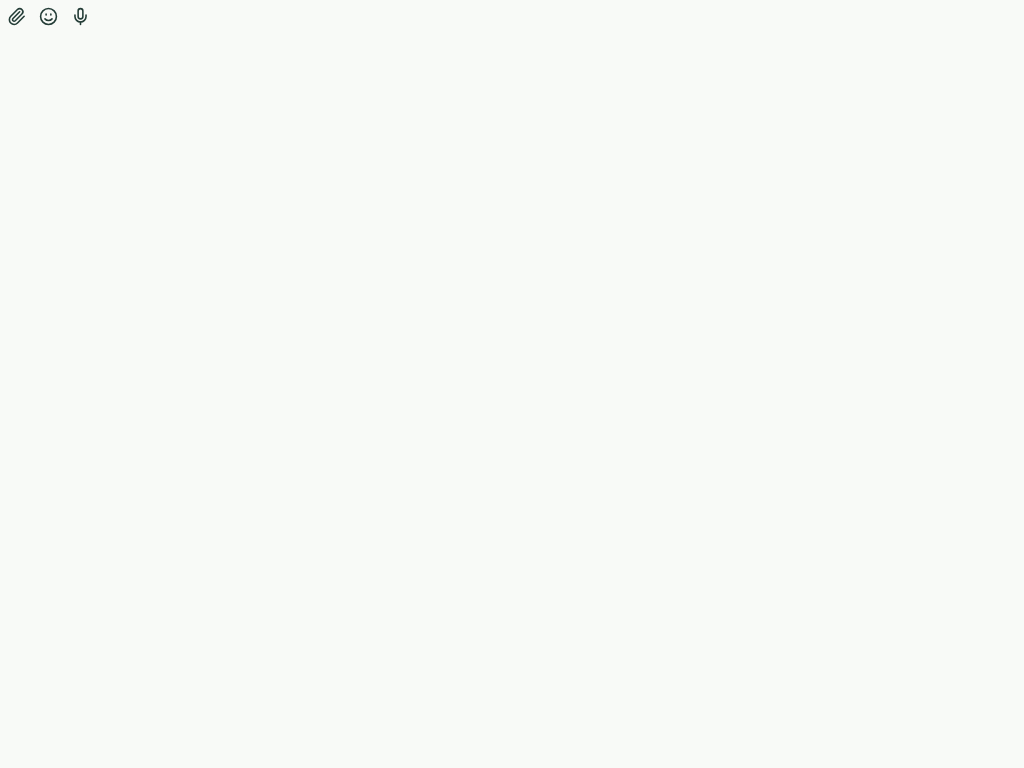
Test: stops a microphone stream that resolves after the recording dialog was closed
Click the button named "Voice message" at (80, 16), box [64,0,96,32]
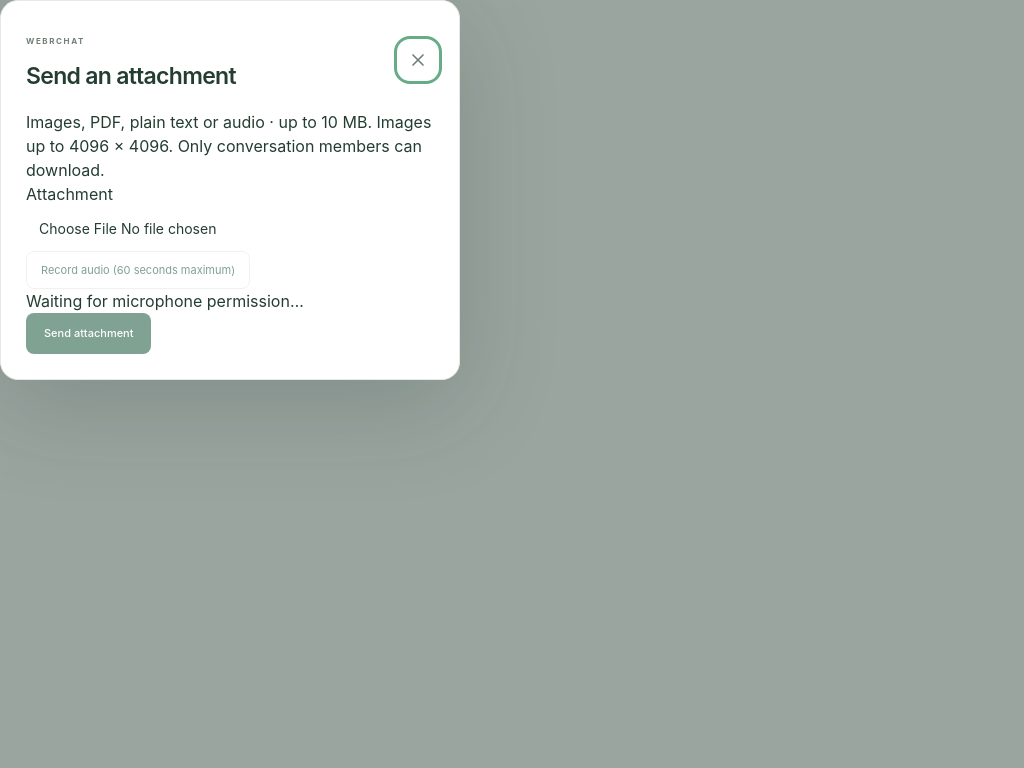
Now the message shows "Waiting for microphone", box [26,291,304,311]
Click the button named "Close dialog" at (418, 60), box [402,44,434,76]
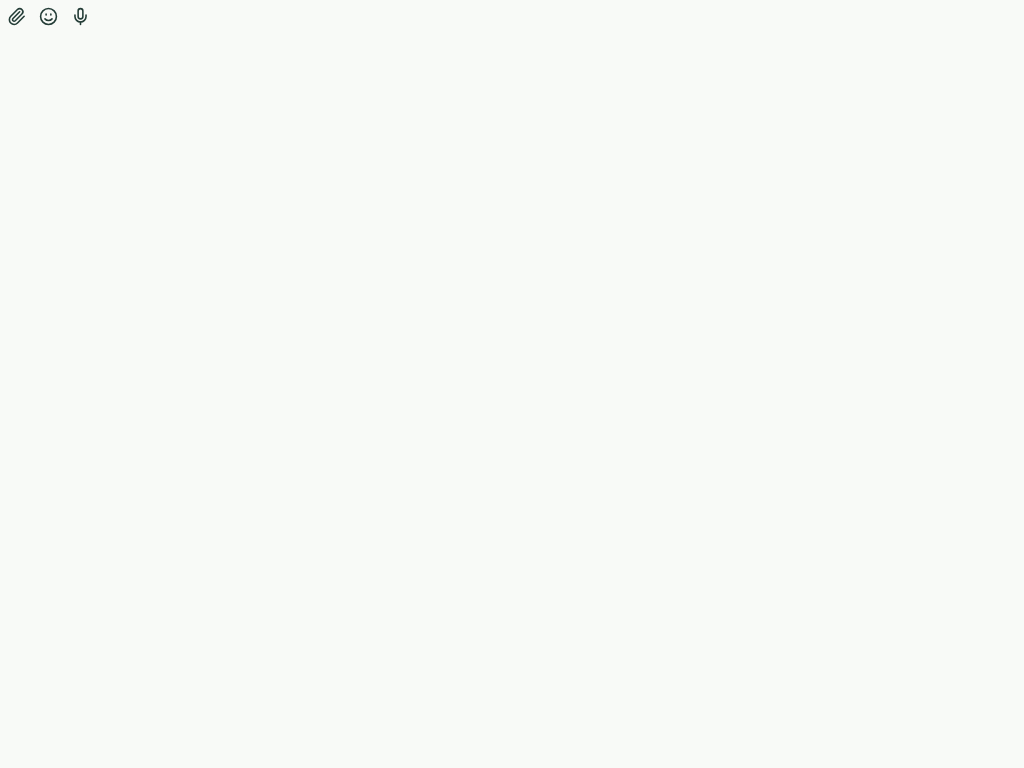
Now the dialog is gone
